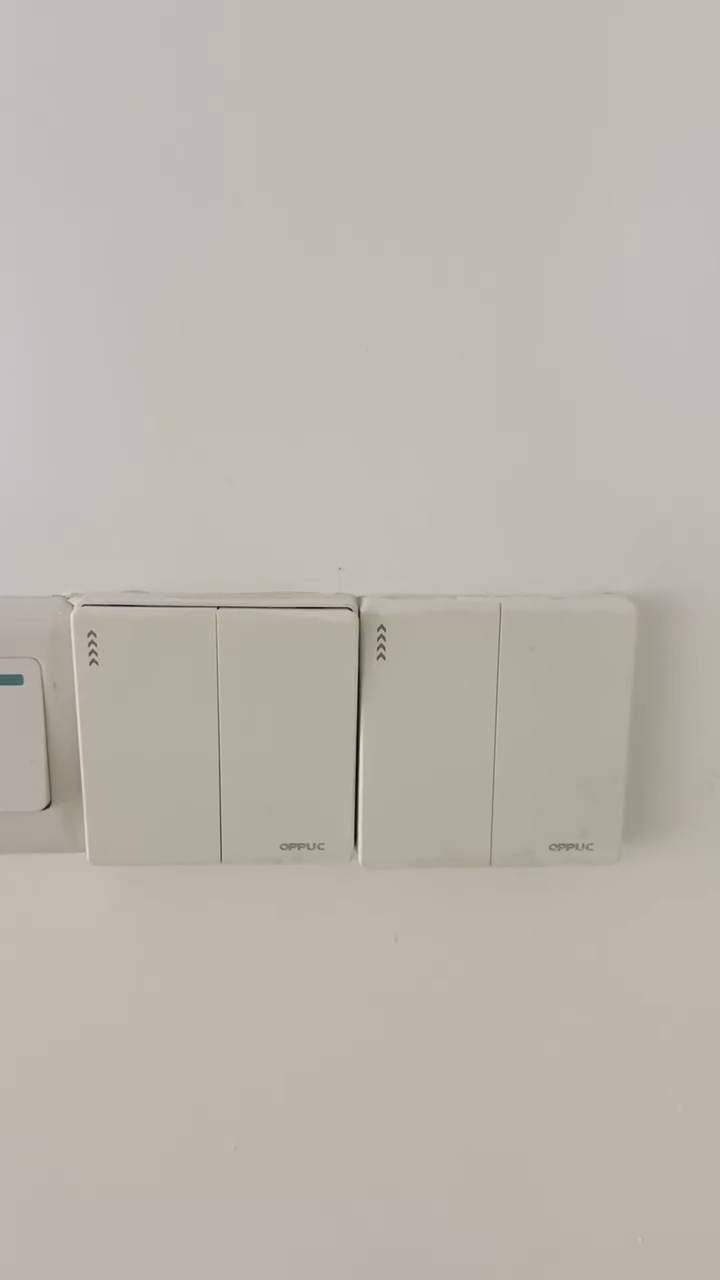button1: (362, 607, 494, 866), (83, 612, 217, 865), (495, 603, 622, 863), (220, 612, 351, 863)
